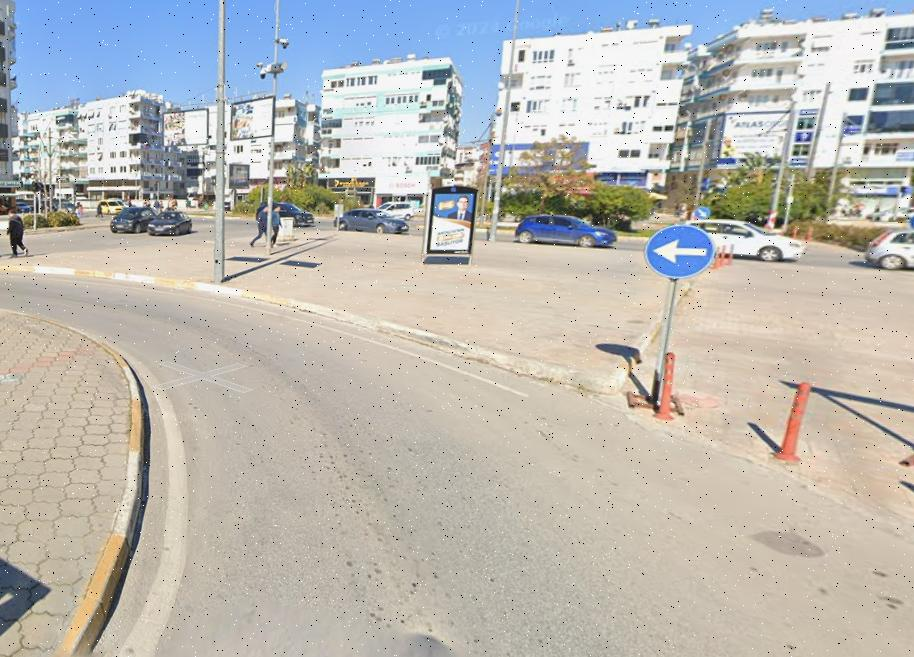turnleft: (648, 228, 713, 277)
